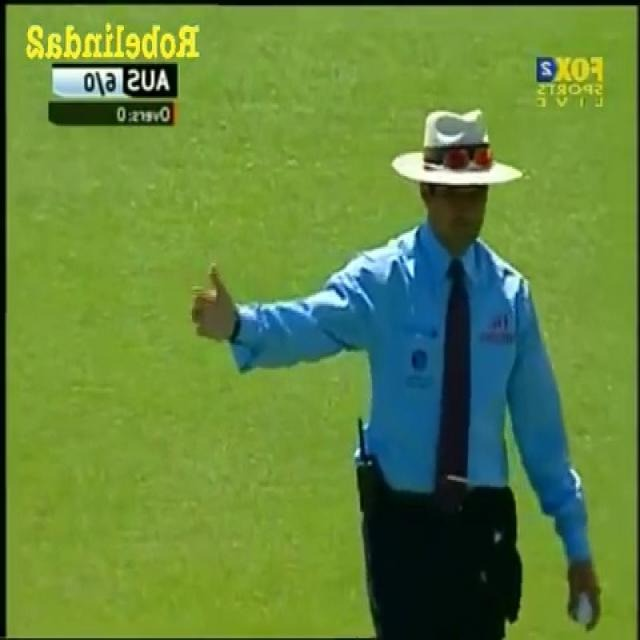No_Ball: (181, 100, 608, 639)
